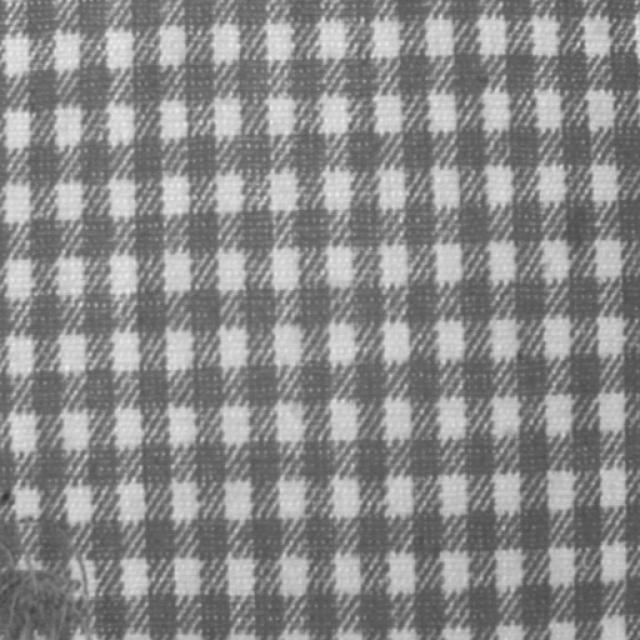Foreign-Body-Defect: (0, 494, 98, 639)
